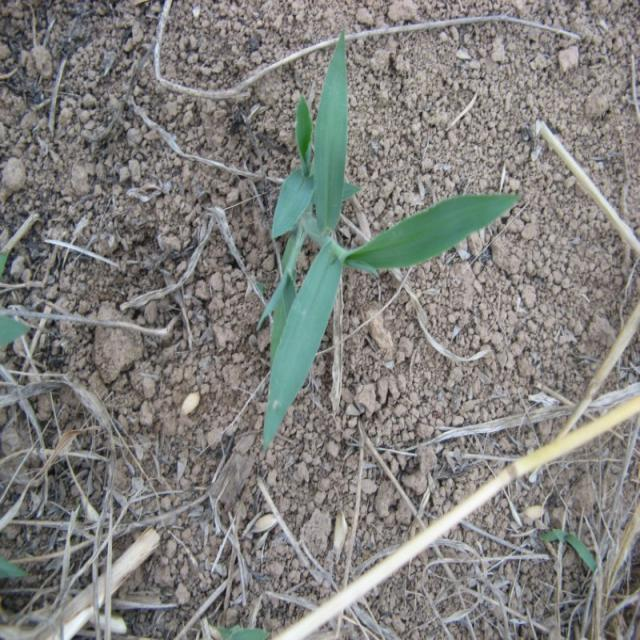bg: (265, 36, 518, 444)
